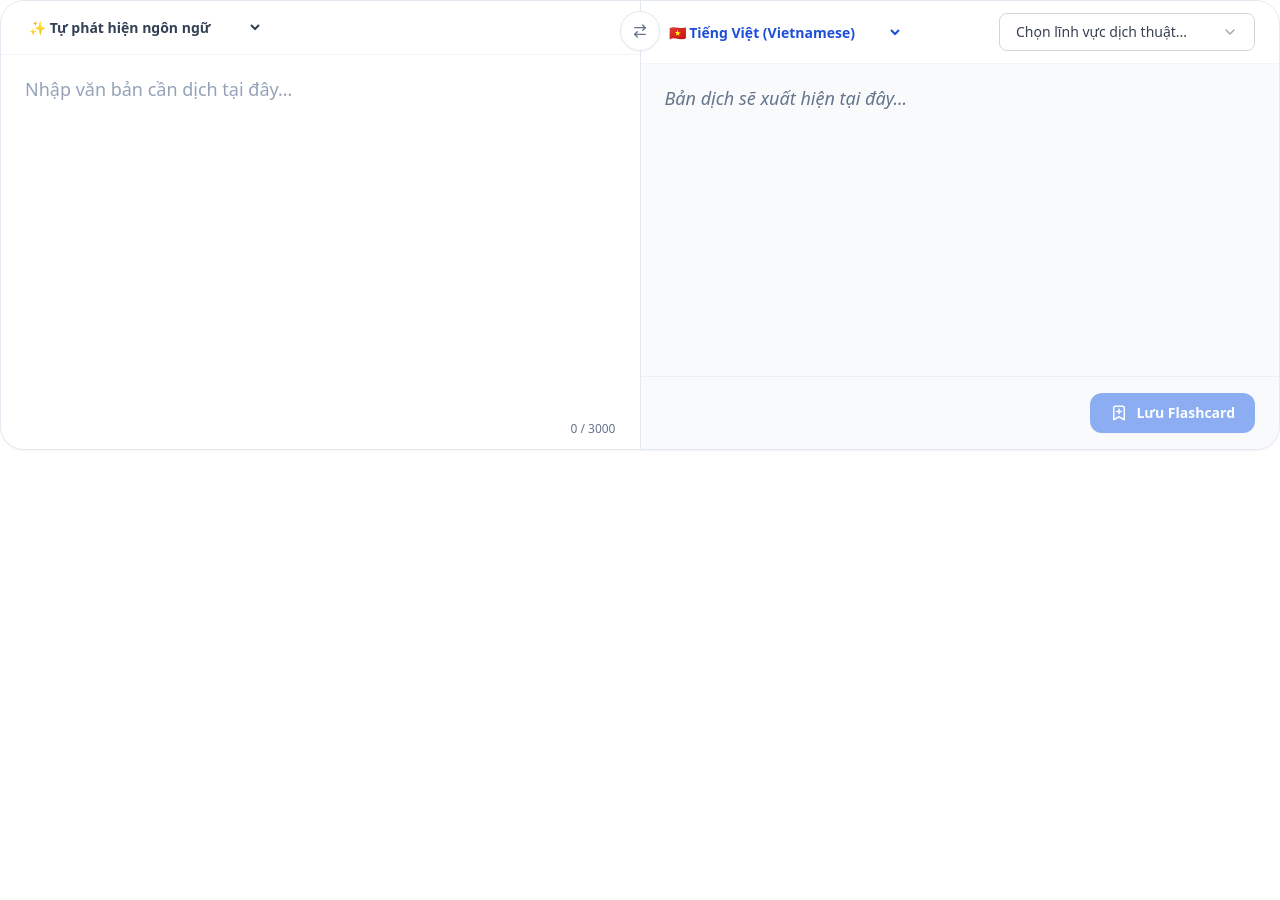
Test: TranslationBox -> Lưu Flashcard: xác định ngôn ngữ thẻ › nguồn tự nhận diện nhưng không có kết quả: hỏi người dùng, không đoán
The width and height of the screenshot is (1280, 900).
Type "Bonjour" into the text box with placeholder "Nhập văn bản cần dịch tại đây...". click: coordinates (320, 232)
box: left=1, top=55, right=640, bottom=409
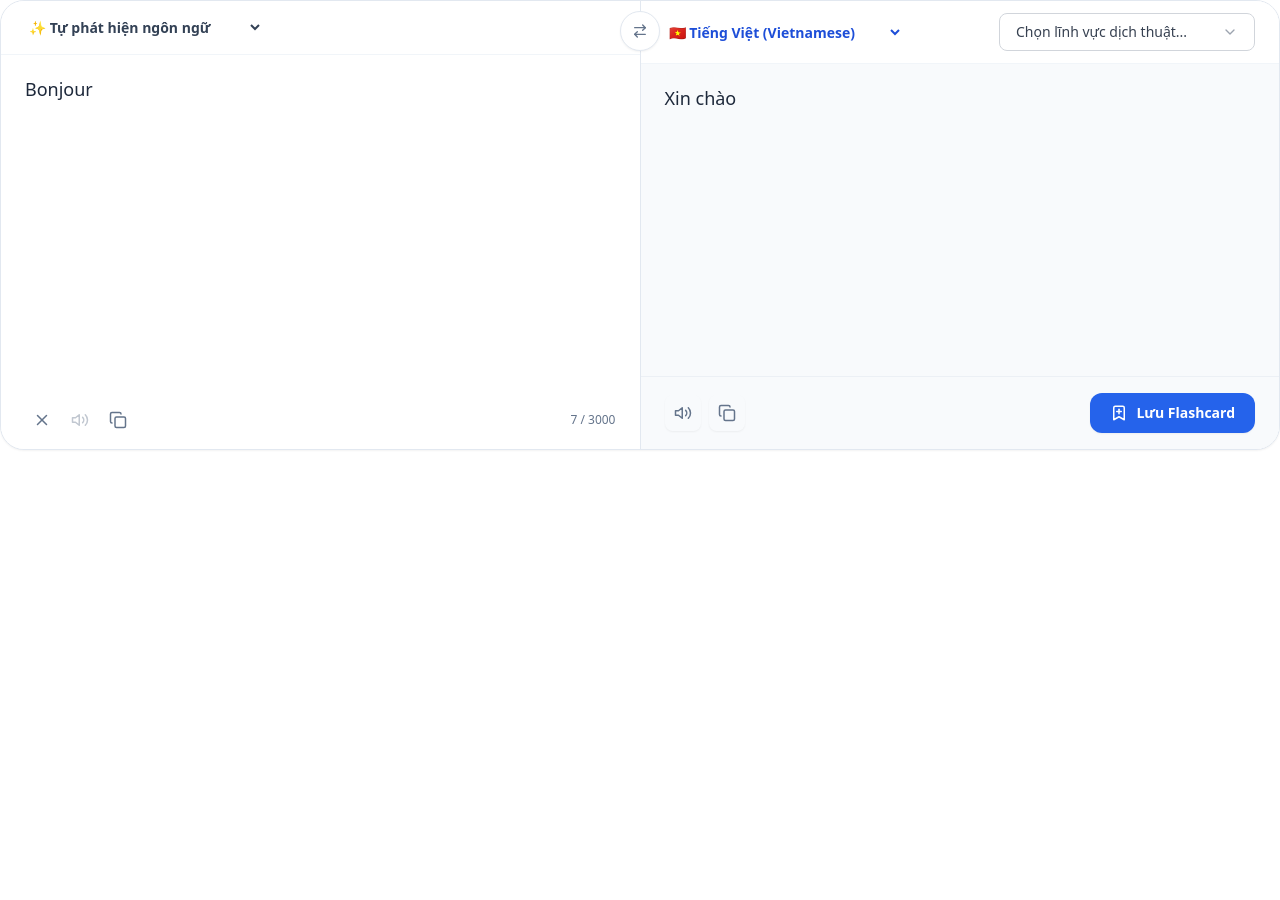
Click the button "Lưu Flashcard". click: coordinates (1173, 413)
box: left=1090, top=393, right=1255, bottom=433
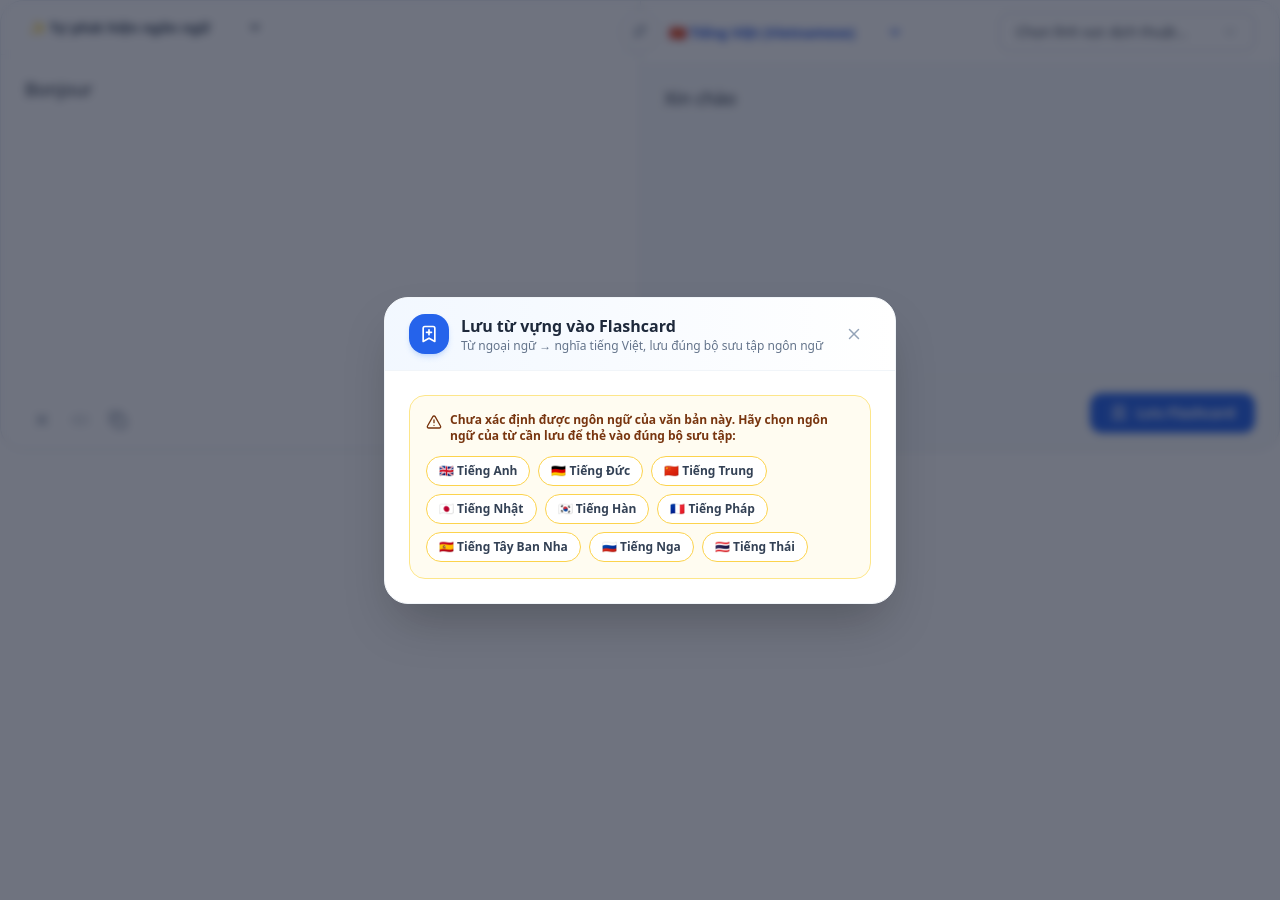
Expected: the element named "Chọn ngôn ngữ nguồn" is shown, left=426, top=456, right=854, bottom=562
